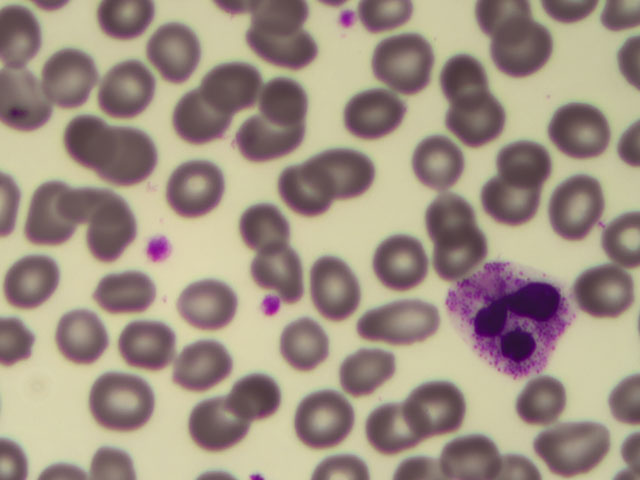Platelets: (257, 294, 286, 317), (147, 235, 172, 259), (340, 10, 359, 25)
RBC: (44, 54, 101, 111), (95, 57, 152, 114), (136, 19, 193, 76), (107, 128, 164, 185), (59, 106, 116, 163), (168, 92, 225, 149), (206, 55, 263, 112), (243, 64, 300, 121), (244, 109, 301, 166), (257, 15, 314, 72), (350, 85, 407, 142), (374, 32, 431, 89), (427, 40, 484, 97), (447, 81, 504, 138), (409, 133, 466, 190), (322, 145, 379, 202), (273, 163, 330, 220), (232, 205, 289, 262), (174, 159, 231, 216), (256, 245, 313, 302), (305, 258, 362, 315), (374, 238, 431, 295), (428, 176, 485, 233), (431, 233, 488, 290), (485, 172, 542, 229), (498, 132, 555, 189), (552, 95, 609, 152), (546, 178, 603, 235), (573, 259, 630, 316), (494, 17, 551, 74), (515, 371, 572, 428), (540, 423, 597, 480), (435, 423, 492, 480), (404, 379, 461, 436), (368, 400, 425, 457), (338, 339, 395, 396), (376, 296, 433, 353), (268, 315, 325, 372), (296, 384, 353, 441), (233, 369, 290, 426), (190, 395, 247, 452), (179, 341, 236, 398), (125, 318, 182, 375), (183, 284, 240, 341), (92, 380, 149, 437), (54, 306, 111, 363), (96, 276, 153, 333), (84, 222, 141, 279), (64, 176, 121, 233), (32, 178, 89, 235), (1, 251, 58, 308), (104, 1, 161, 57), (1, 72, 57, 129)
WBC: (449, 263, 570, 375)
